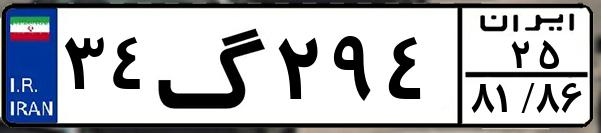1: (495, 70, 520, 125)
2: (270, 28, 330, 110), (508, 27, 537, 80)
3: (57, 26, 110, 100)
4: (385, 28, 445, 110), (110, 28, 156, 98)
5: (537, 27, 568, 80)
6: (560, 70, 590, 125)
8: (470, 70, 495, 125), (535, 70, 560, 125)
9: (330, 28, 385, 110)
گ: (156, 12, 270, 120)
